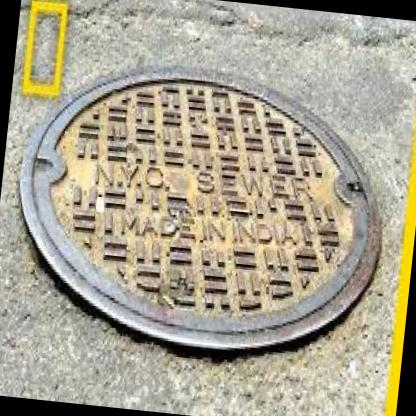manholes: (0, 24, 415, 416)
